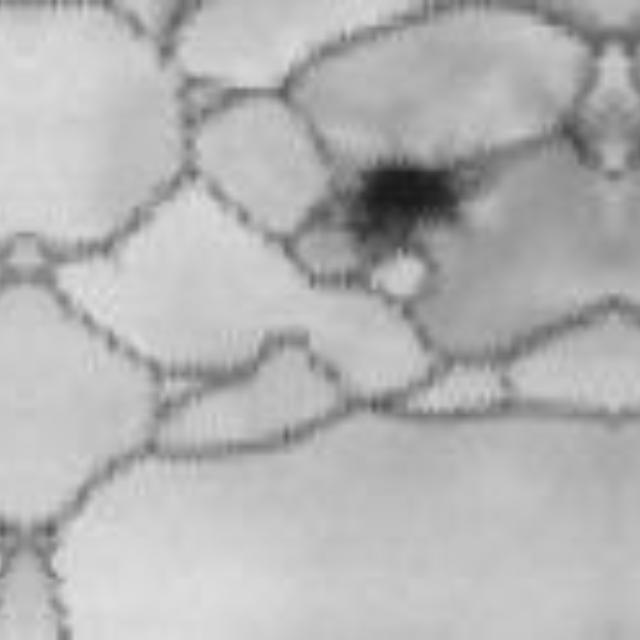good_void: (348, 158, 471, 255)
